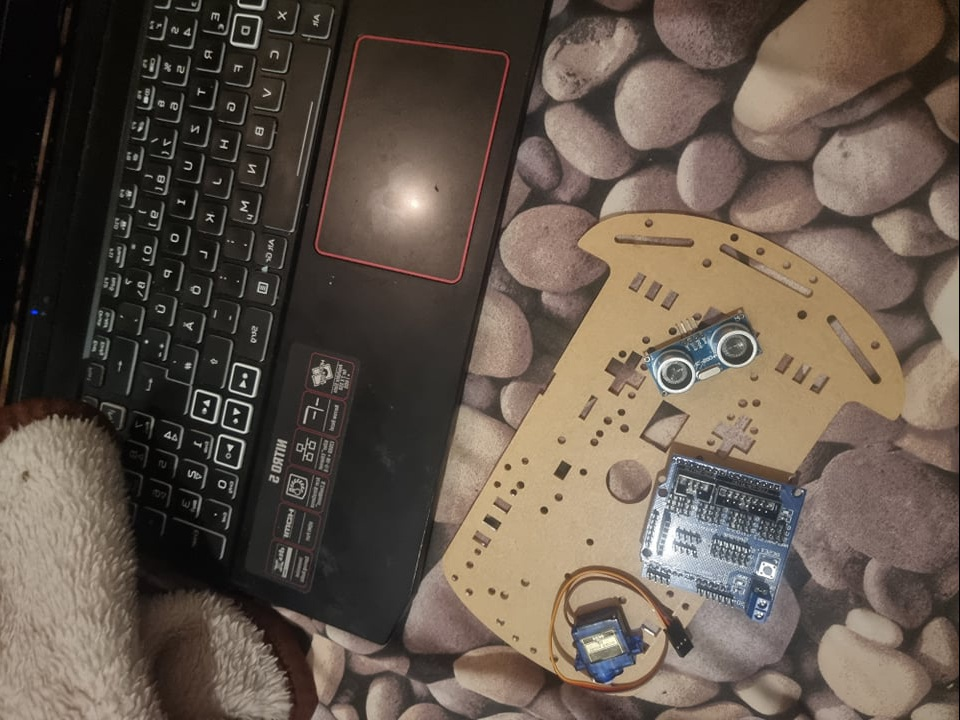5V EXPANSION: (643, 456, 811, 623)
SENSOR: (645, 307, 761, 399)
